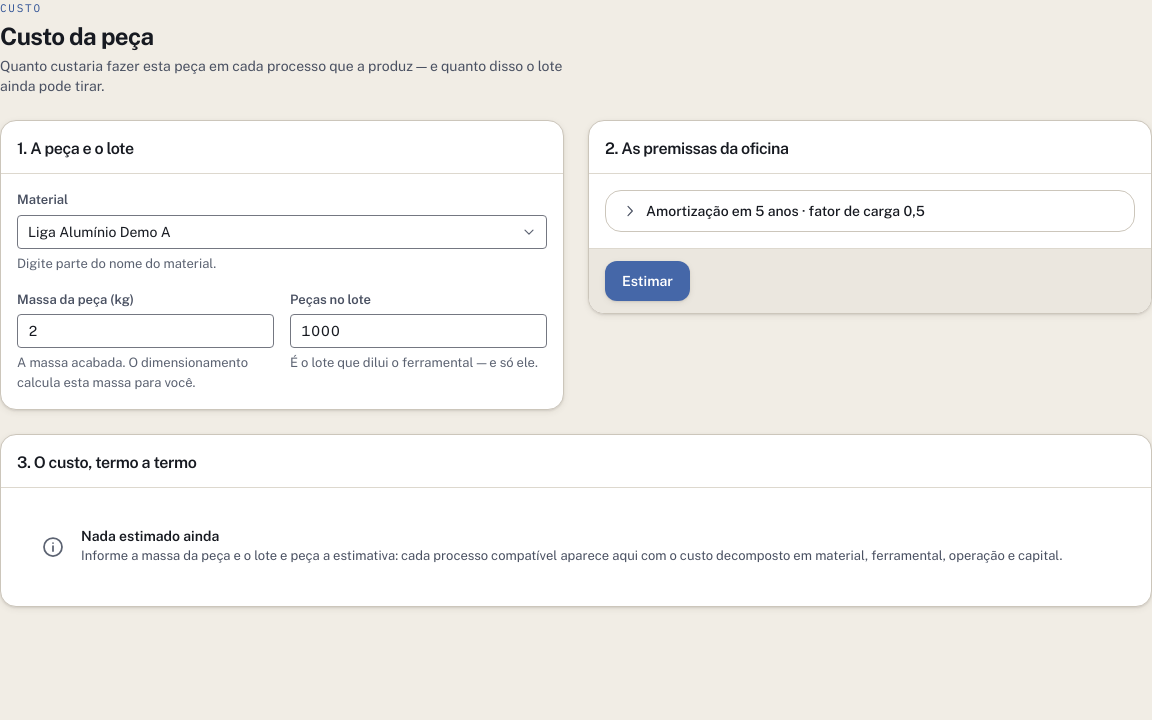
Test: Custo da peça › nomeia o processo sem dado econômico, com o motivo
Expected: the heading "1. A peça e o lote" is shown, [17,137,134,161]
Click the button "Estimar" at (648, 281), box [605,261,690,301]
(page scrolled)
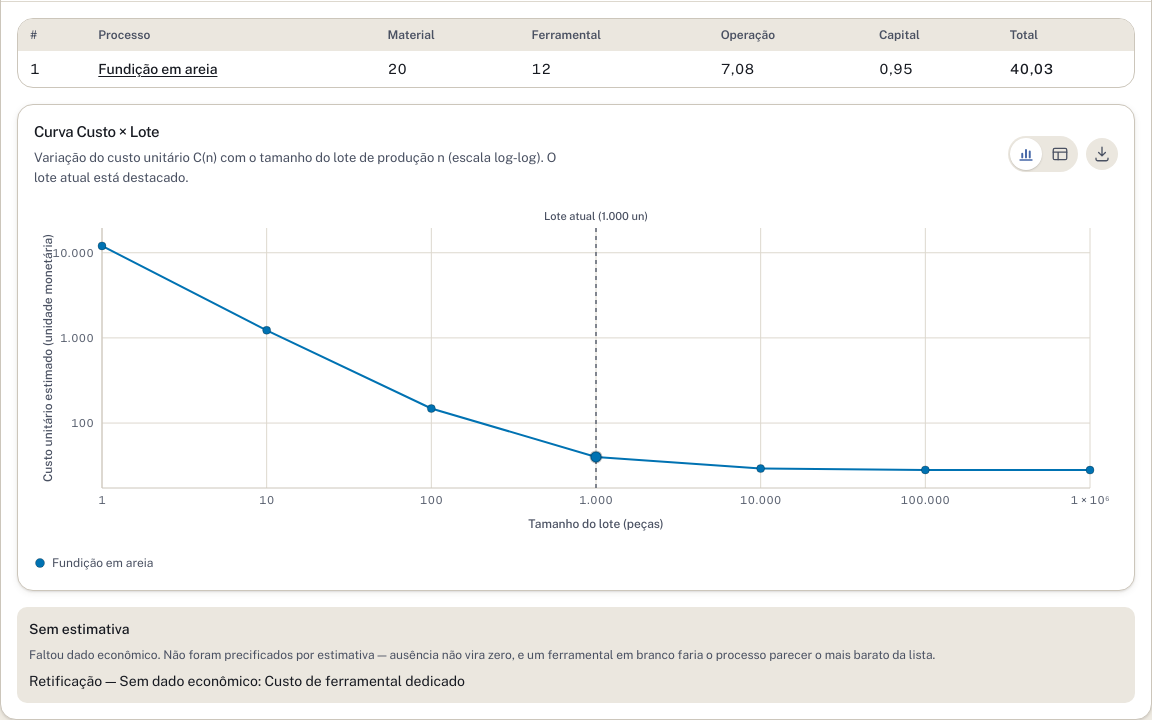
Expected: the text "Sem estimativa" is shown, [29,620,130,636]
Expected: the list item "Retificação" is shown, [29,672,102,688]
Expected: the list item "Custo de ferramental dedicado" is shown, [119,672,465,688]
